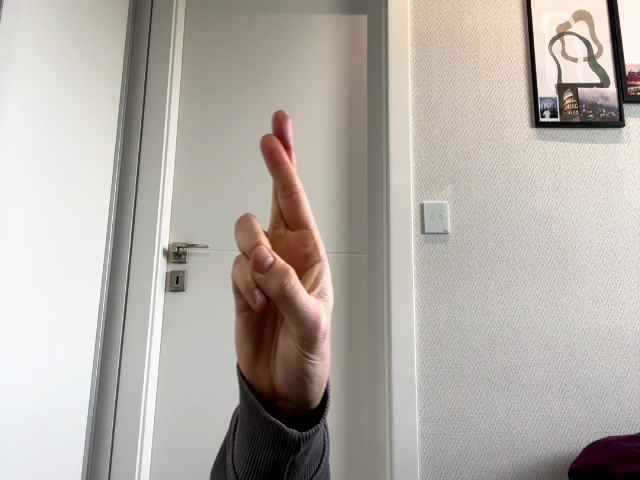R: (232, 111, 334, 395)
